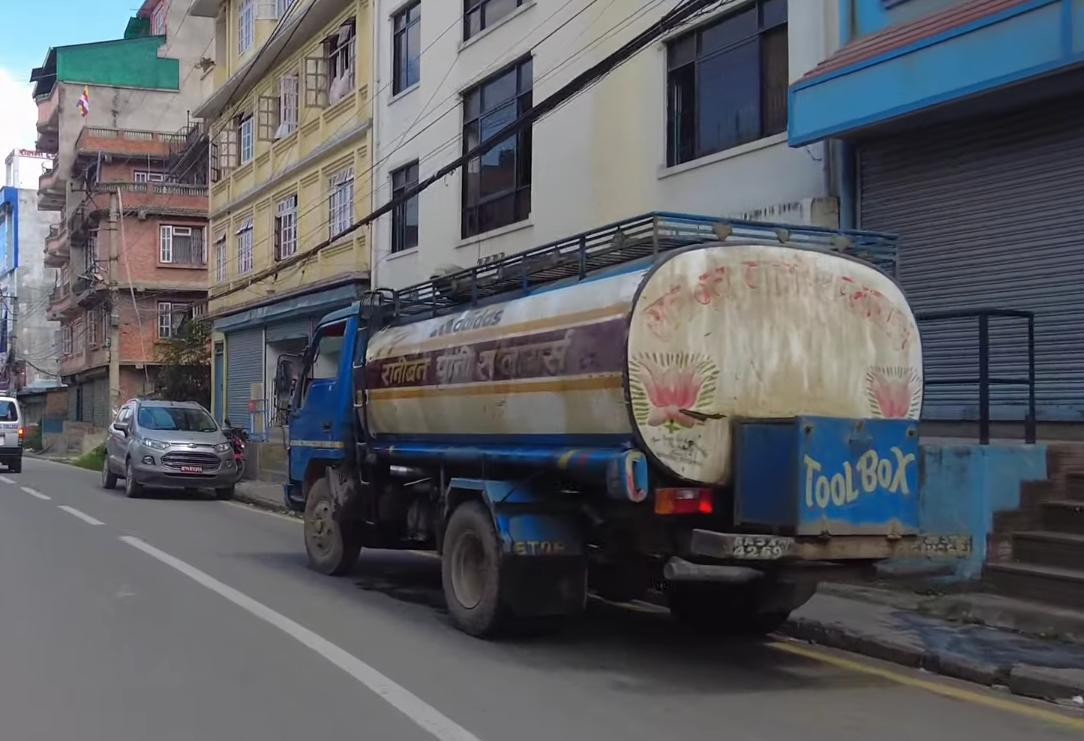car: (94, 375, 246, 511), (0, 380, 30, 471)
mini_truck: (274, 204, 978, 652)
